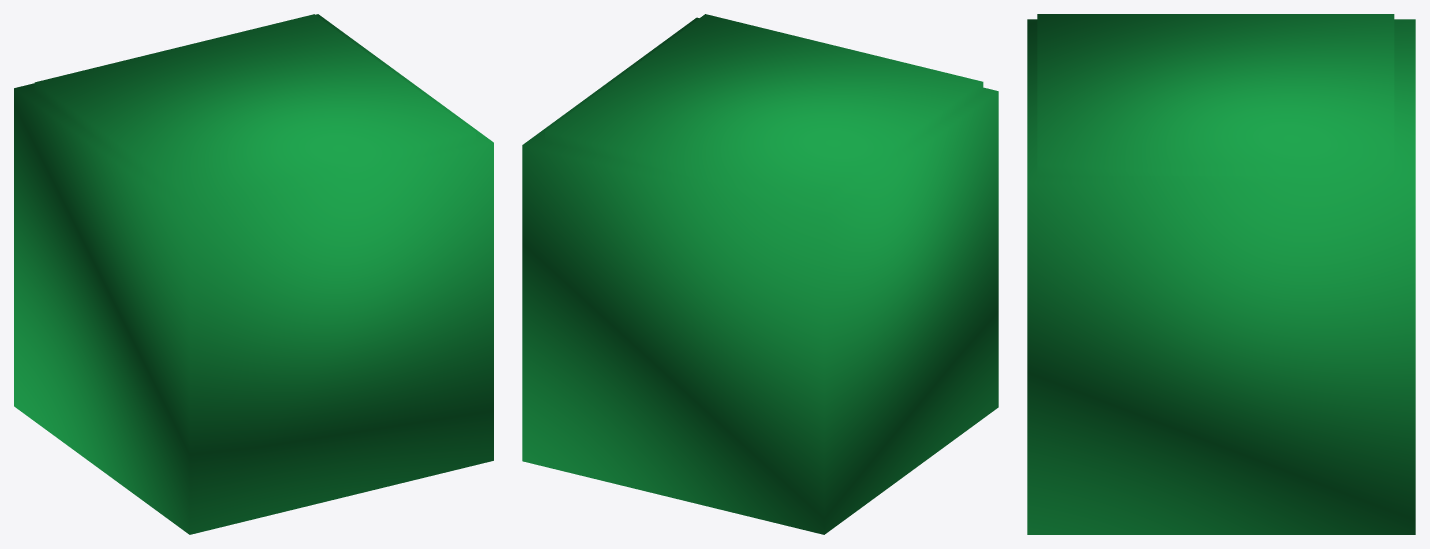
File: ps2_jrpg_port_trade_cargo_pouch.obj
The picture shows the model from 3 angles, left to right: view 1: azimuth 30°, elevation 25°; view 2: azimuth 150°, elevation 25°; view 3: azimuth 270°, elevation 25°; orthographic projection. The views are drawn at different scales.
Size of the model in its own units: 1 by 1.03 by 1.
